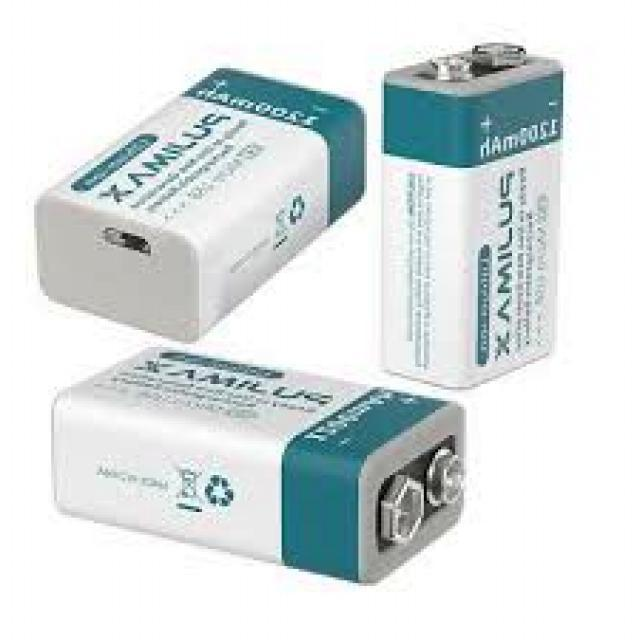battery: (52, 345, 467, 586), (380, 41, 564, 389)
